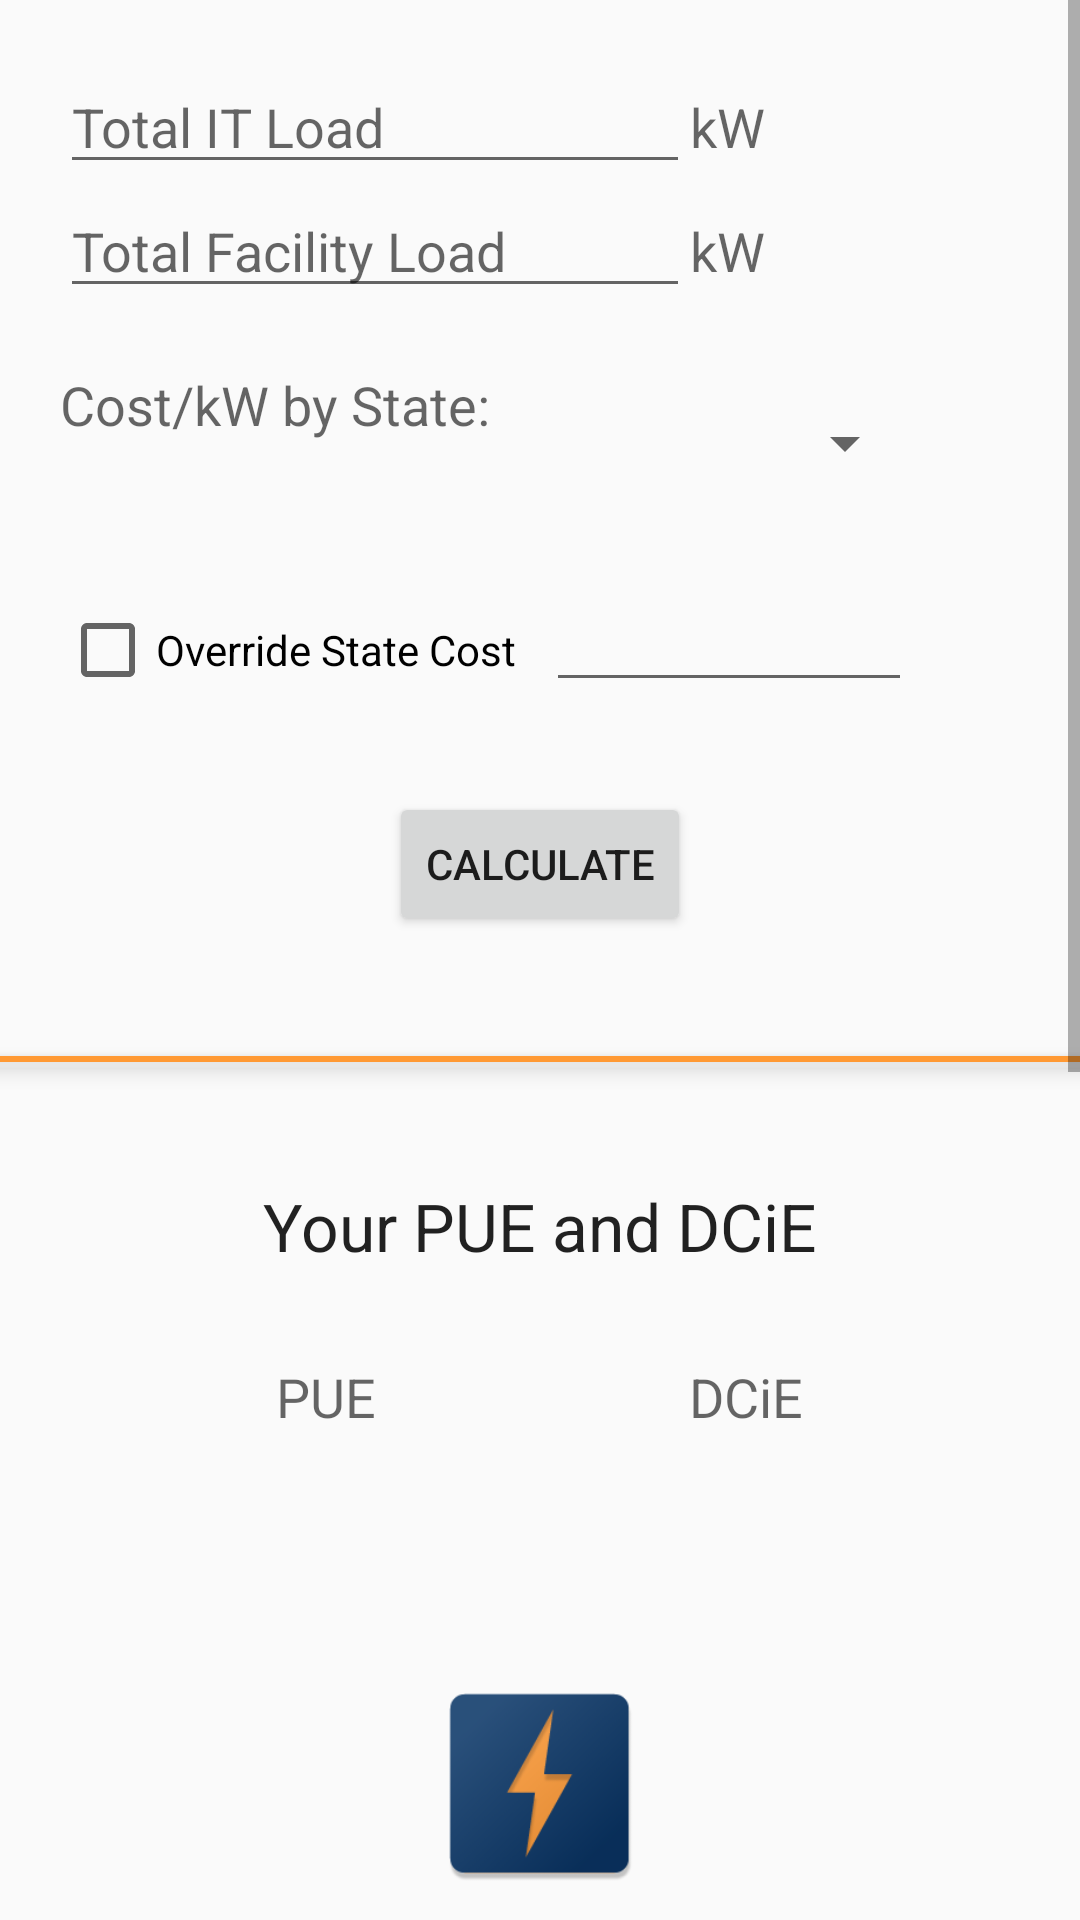

Where icons sit on this 1080 x 1920 app screen, as (x1, y1, x2, y2):
electricityicon: (449, 1693, 630, 1879)
